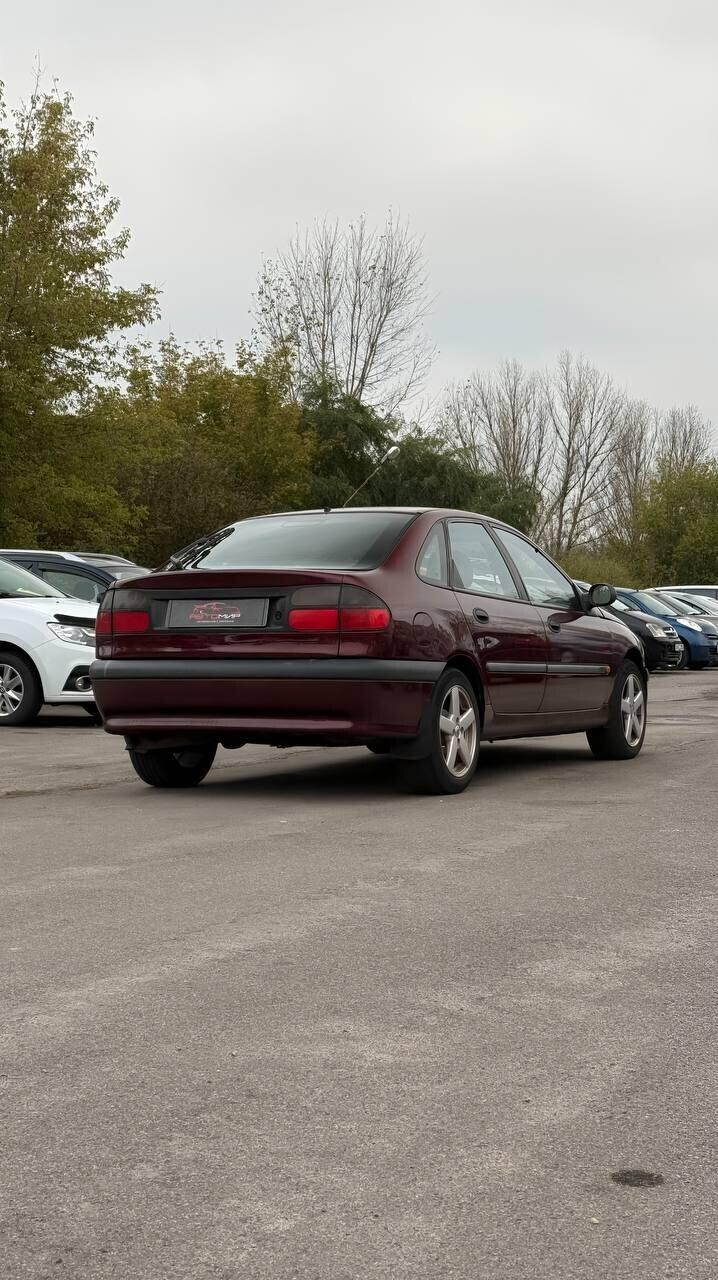Lahuna_1993-1999: (72, 500, 663, 805)
